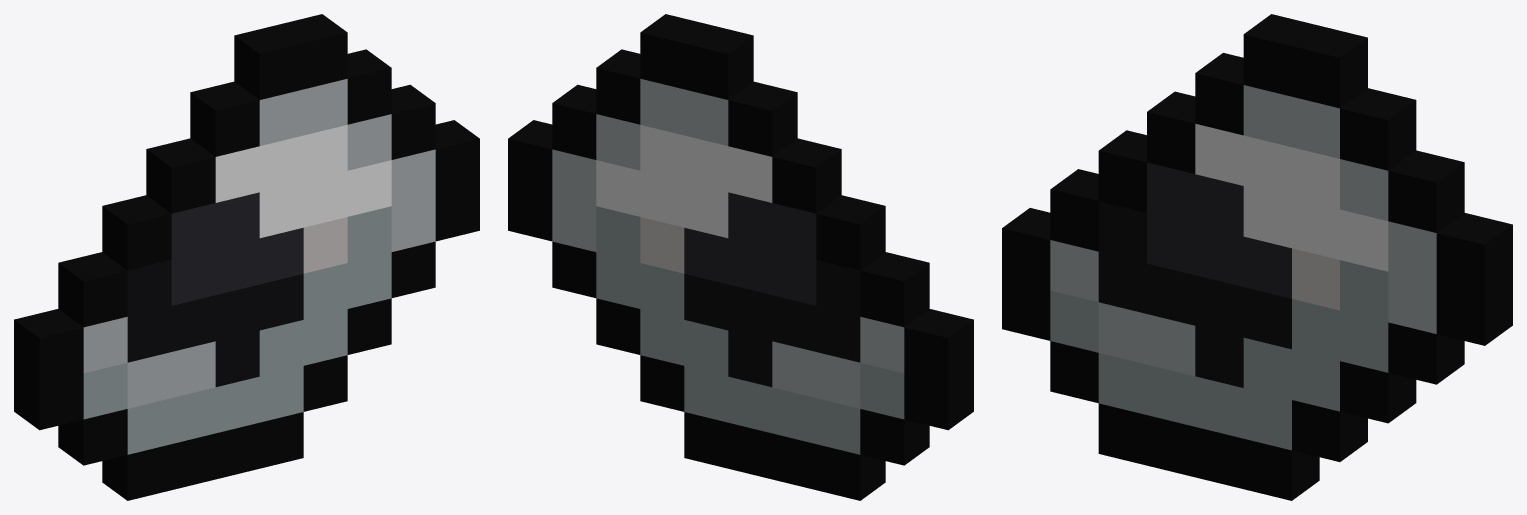
The model's file is Black Strongbed.glb.
3 renders of one model, left to right at view 1: azimuth 30°, elevation 25°; view 2: azimuth 150°, elevation 25°; view 3: azimuth 330°, elevation 25°, orthographic. The views are drawn at different scales.
Parts seen in each view (by area): view 1: generated(Clone); view 2: generated(Clone); view 3: generated(Clone).
Part boxes in pixels (box(x1,y1,x2,y2)): generated(Clone): box(14, 14, 479, 500); generated(Clone): box(508, 14, 973, 500); generated(Clone): box(1002, 14, 1512, 500).
Size of the model in its own units: 10 by 9 by 1.
1 material, 1 textured.
